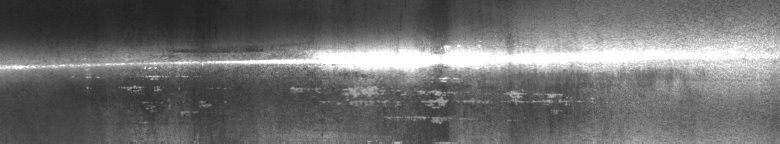ke: (4, 44, 584, 128)
